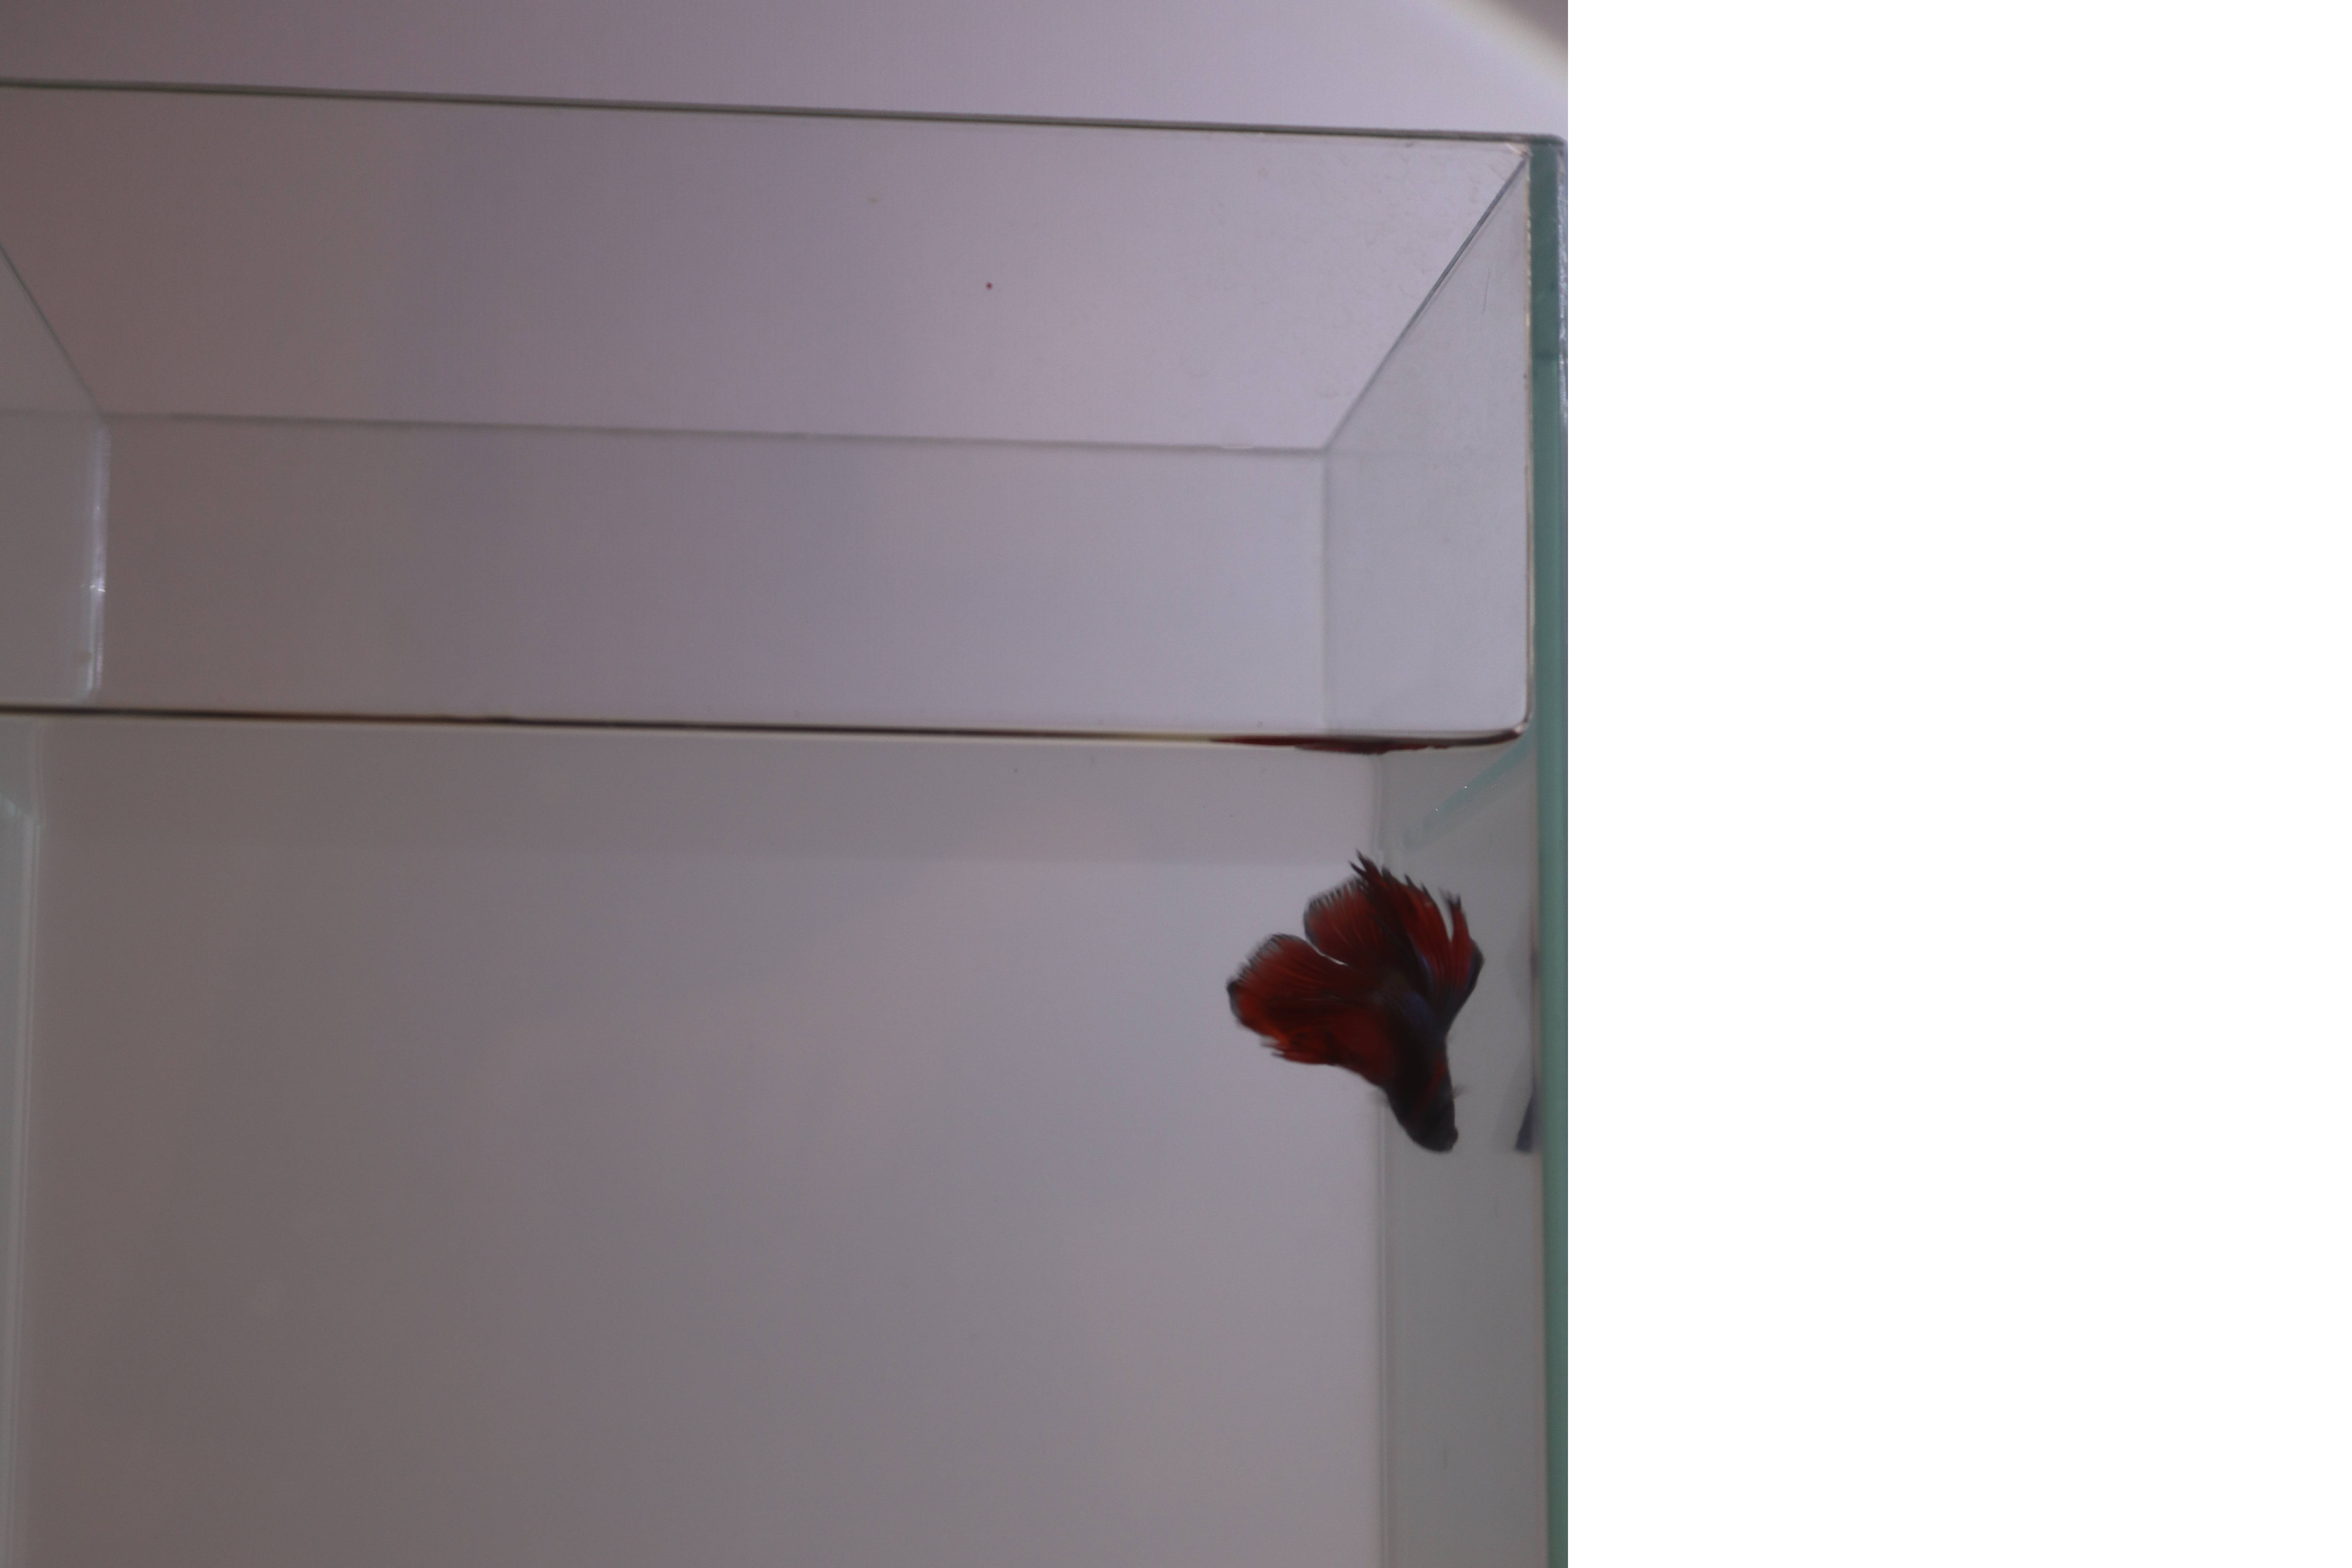fish: (1206, 847, 1514, 1165)
